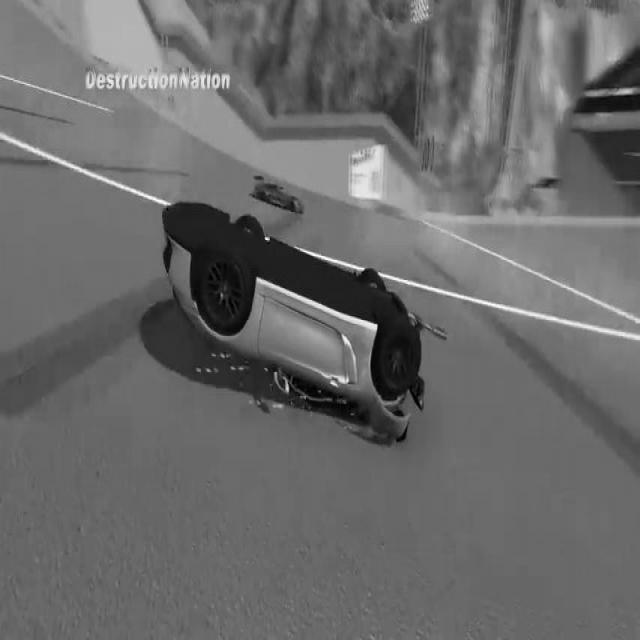accident: (161, 192, 424, 451)
